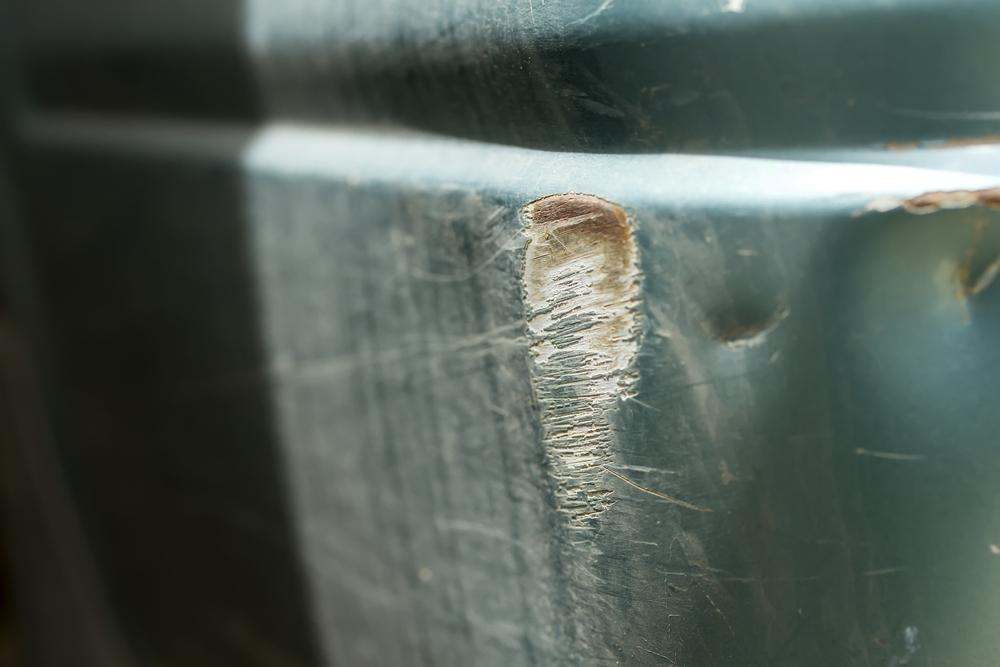dent: (525, 196, 642, 527), (705, 299, 782, 367)
